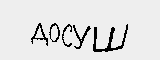Д: (29, 21, 47, 44)
О: (48, 21, 59, 45)
С: (61, 22, 73, 48)
У: (71, 22, 90, 49)
Ш: (90, 24, 128, 51)
